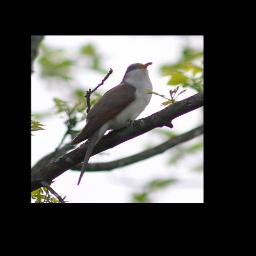Cuckoo: (69, 62, 154, 188)
